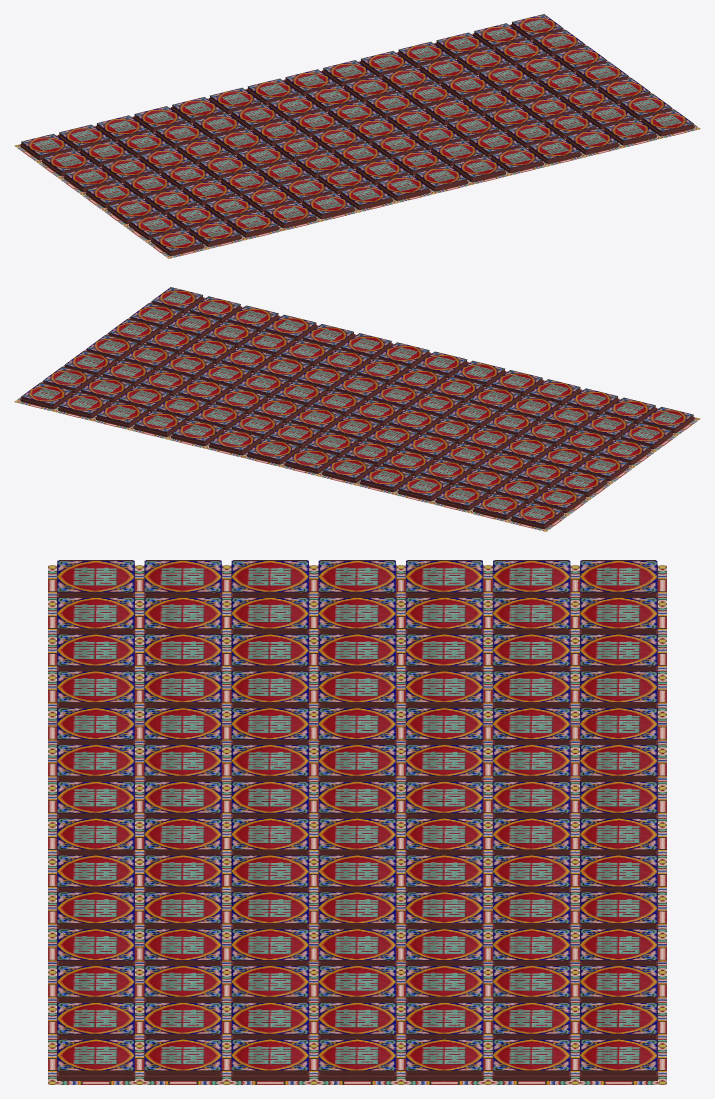
File: SM_Ceiling07D.fbx
The picture shows the model from 3 angles, top to bottom: view 1: azimuth 30°, elevation 25°; view 2: azimuth 150°, elevation 25°; view 3: azimuth 270°, elevation 25°; orthographic projection. The views are drawn at different scales.
Parts seen in each view (by area): view 1: SM_Ceiling07D; view 2: SM_Ceiling07D; view 3: SM_Ceiling07D.
Boxes of the visible parts, box(x1,y1,x2,y2) form: SM_Ceiling07D: box(14, 14, 700, 258); SM_Ceiling07D: box(14, 287, 700, 531); SM_Ceiling07D: box(48, 560, 666, 1084).
Size of the model in its own units: 526 by 265 by 4.66.
1 material, 1 textured.
